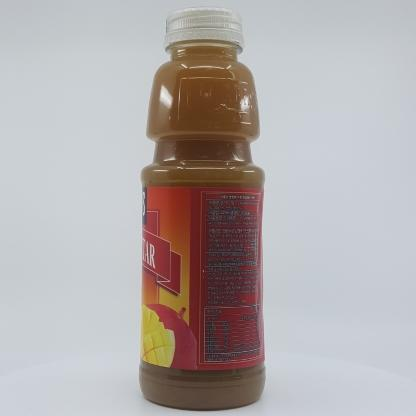-----449ML: (139, 7, 265, 411)
